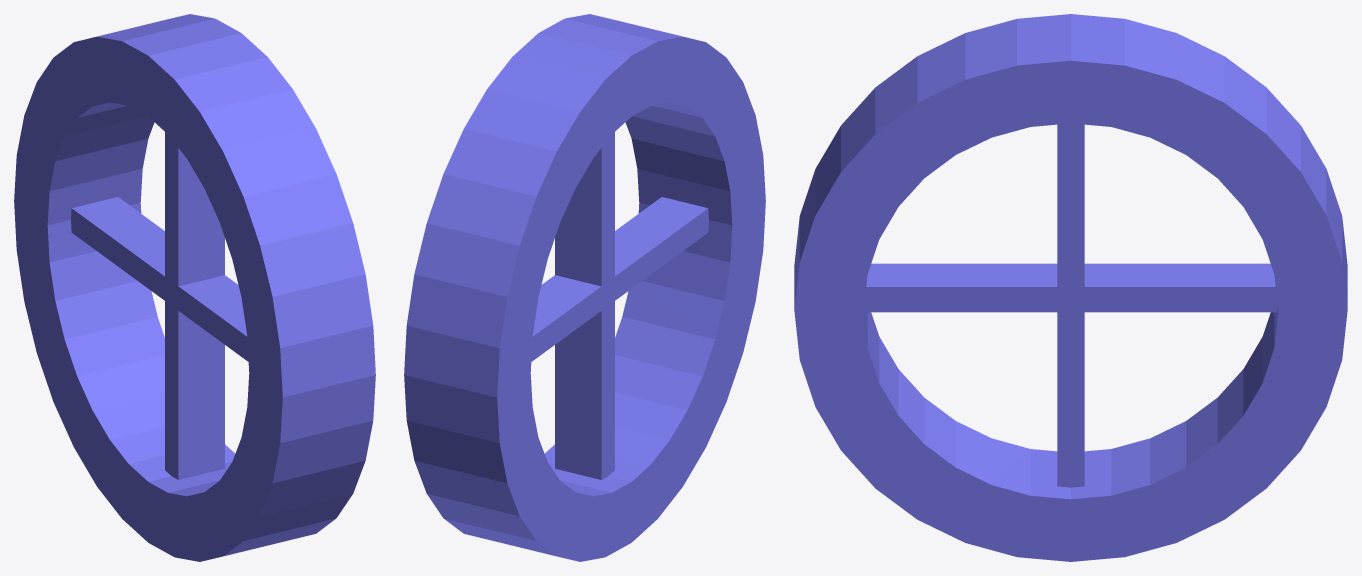
Rendered from woodwheel.obj.
3 renders of one model, left to right at view 1: azimuth 30°, elevation 25°; view 2: azimuth 150°, elevation 25°; view 3: azimuth 270°, elevation 25°, orthographic. The views are drawn at different scales.
Parts seen in each view (by area): view 1: Cube_Cube.001; view 2: Cube_Cube.001; view 3: Cube_Cube.001.
Boxes of the visible parts, <box> form: Cube_Cube.001: <box>14,14,375,561</box>; Cube_Cube.001: <box>404,14,765,561</box>; Cube_Cube.001: <box>794,14,1347,561</box>.
Bounding box in the file's own units: 0.2 × 1 × 1.
1 material, 1 textured.
